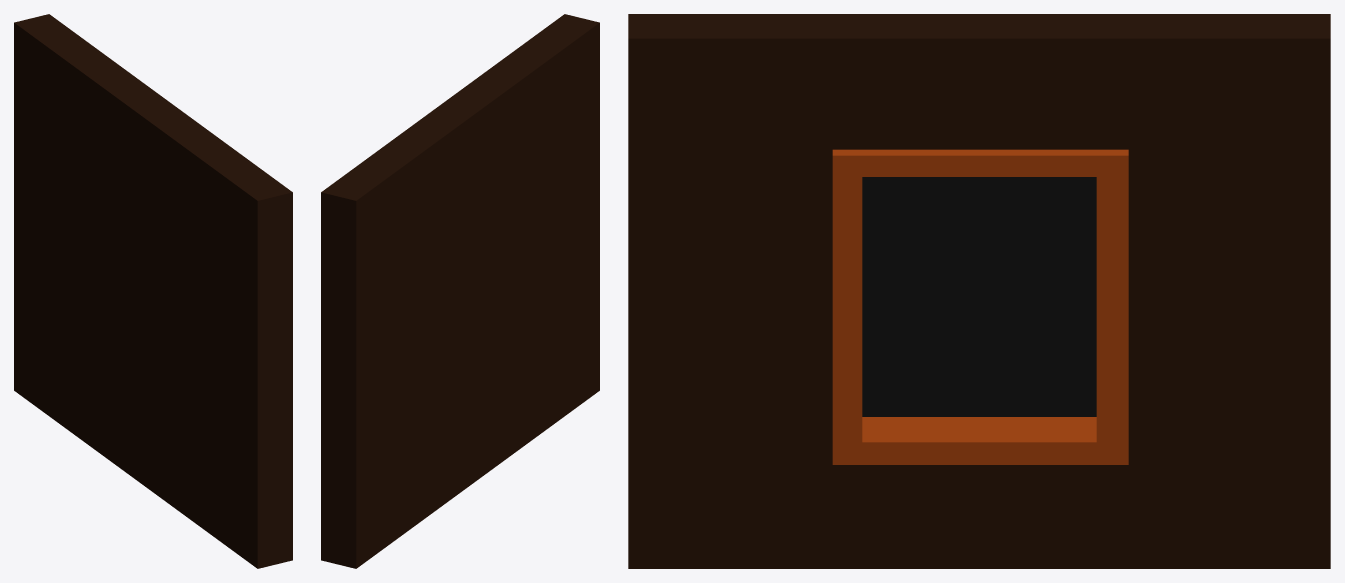
File: WallWindow.FBX
The picture shows the model from 3 angles, left to right: view 1: azimuth 30°, elevation 25°; view 2: azimuth 150°, elevation 25°; view 3: azimuth 270°, elevation 25°; orthographic projection. The views are drawn at different scales.
Parts seen in each view (by area): view 1: WallWindow; view 2: WallWindow; view 3: WallWindow.
Boxes of the visible parts, box(x1,y1,x2,y2) form: WallWindow: box(14, 14, 292, 568); WallWindow: box(321, 14, 599, 568); WallWindow: box(628, 14, 1330, 568).
Size of the model in its own units: 0.308 by 2.5 by 3.
